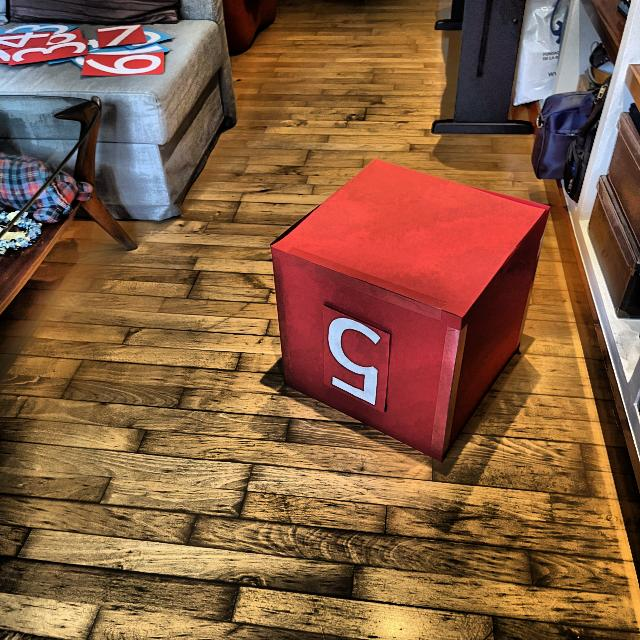five: (327, 314, 384, 409)
red box: (270, 158, 548, 463)
